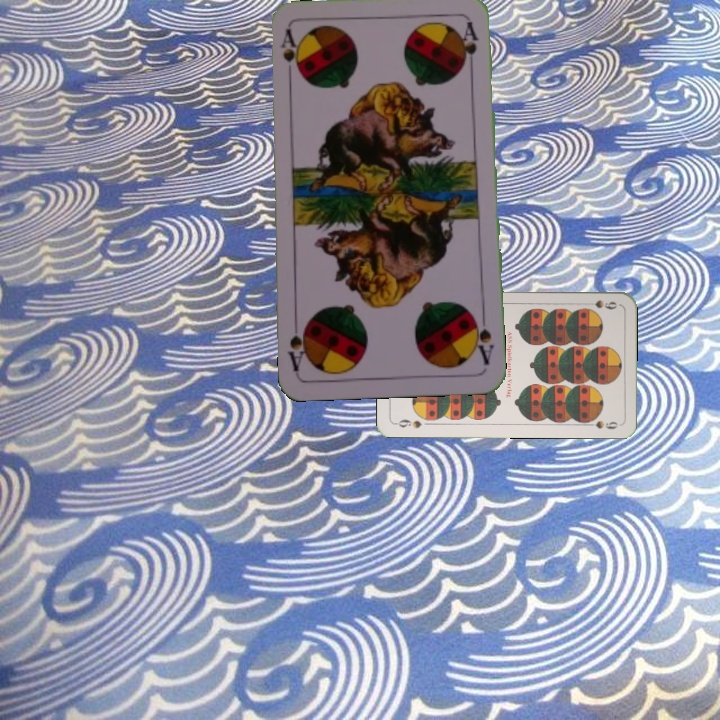S9: (580, 296, 619, 312), (391, 415, 424, 431)
SA: (469, 309, 496, 368), (277, 26, 301, 85)
